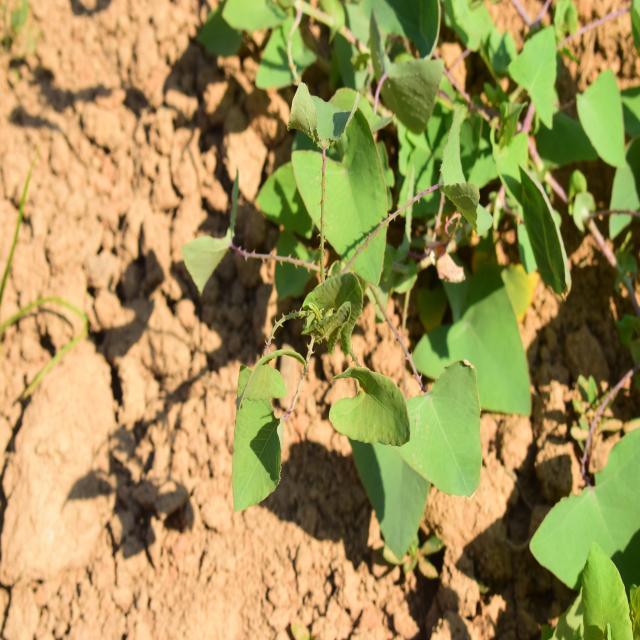Asiatic_Smartweed: (218, 274, 496, 535), (189, 60, 470, 306)
